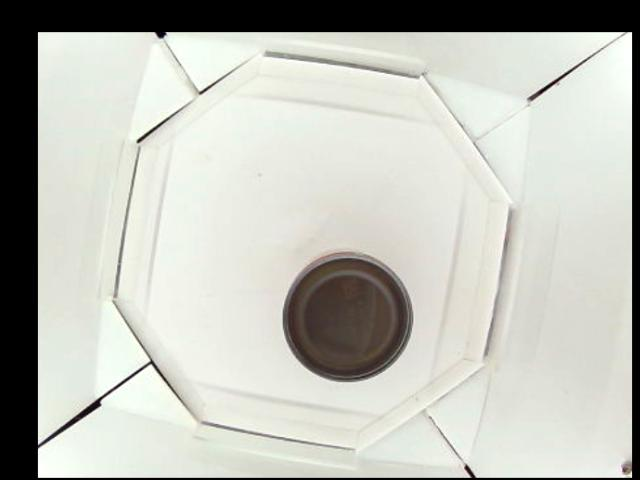Bottle: (282, 250, 413, 382)
